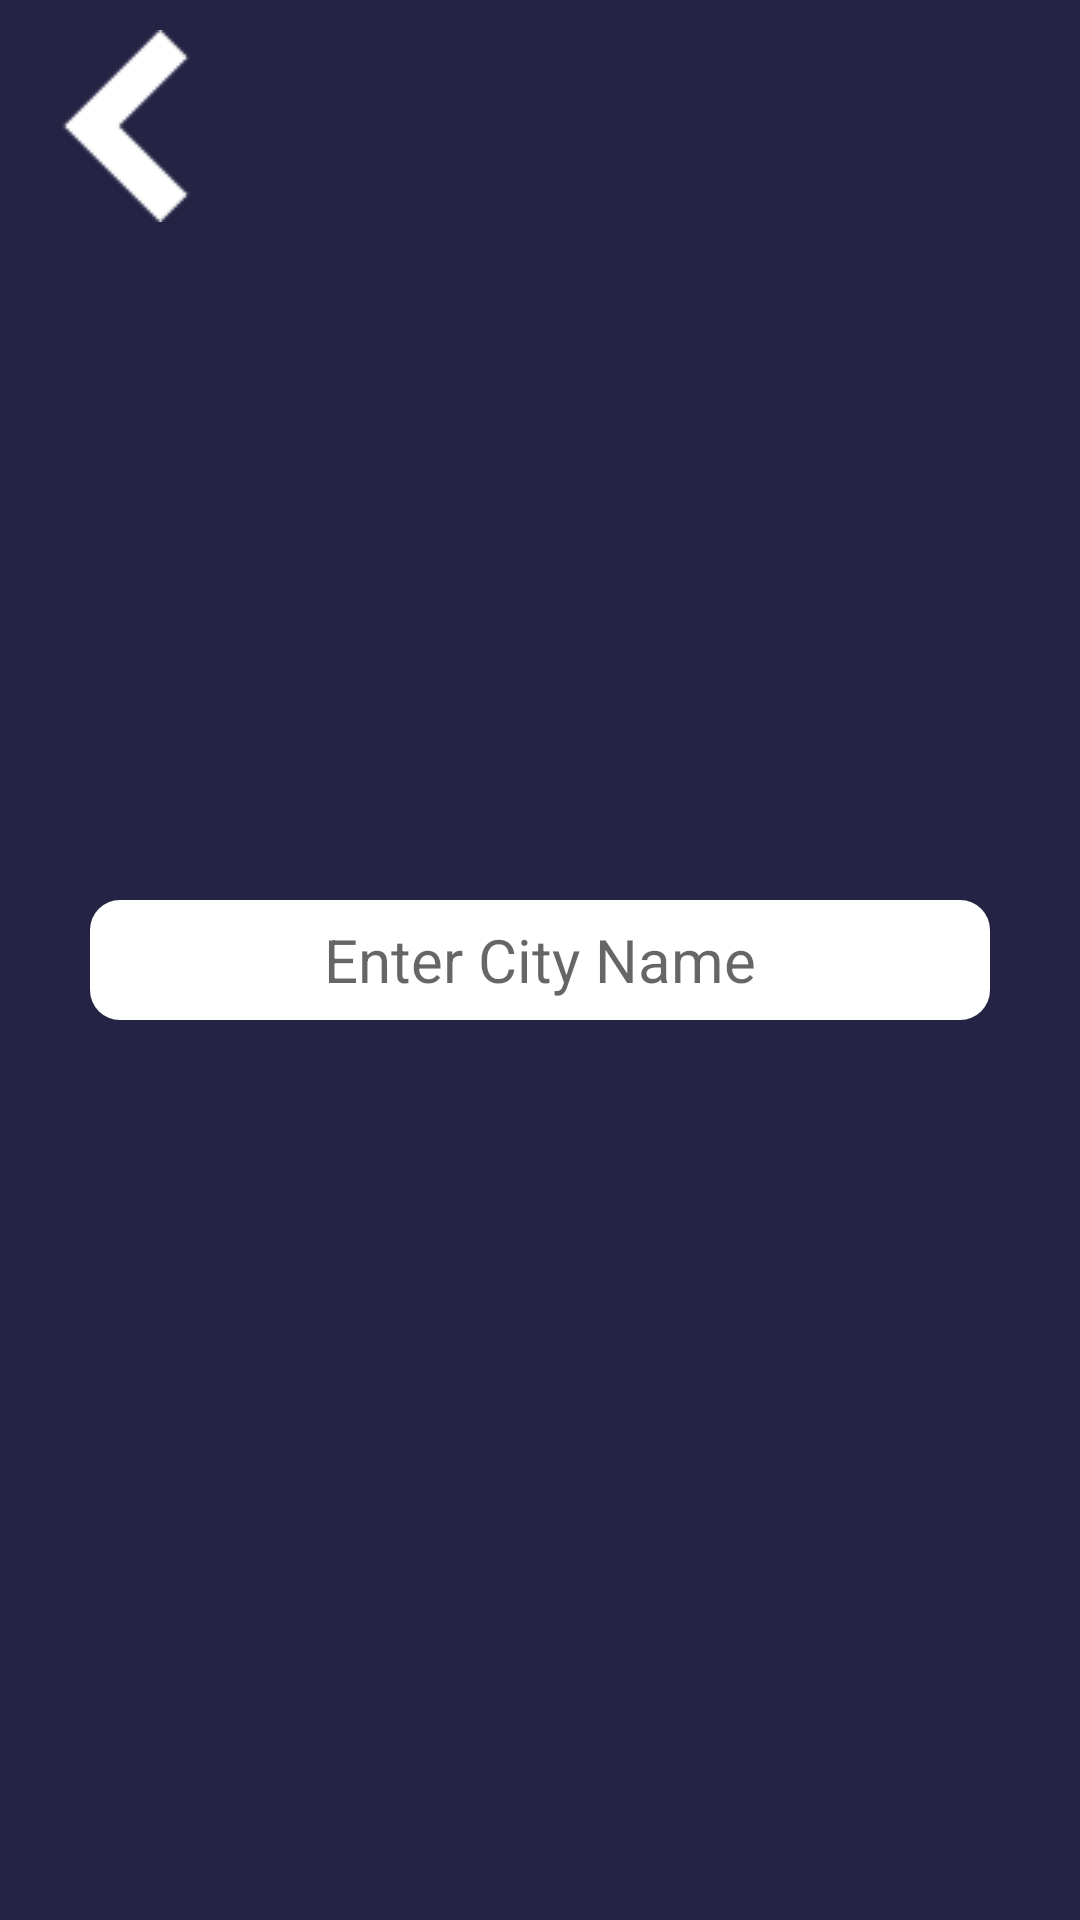

Icon bounding boxes for this 1080w x 1920h phone screenshot, format (x1, y1, x2, y2):
left: (63, 30, 189, 222)
